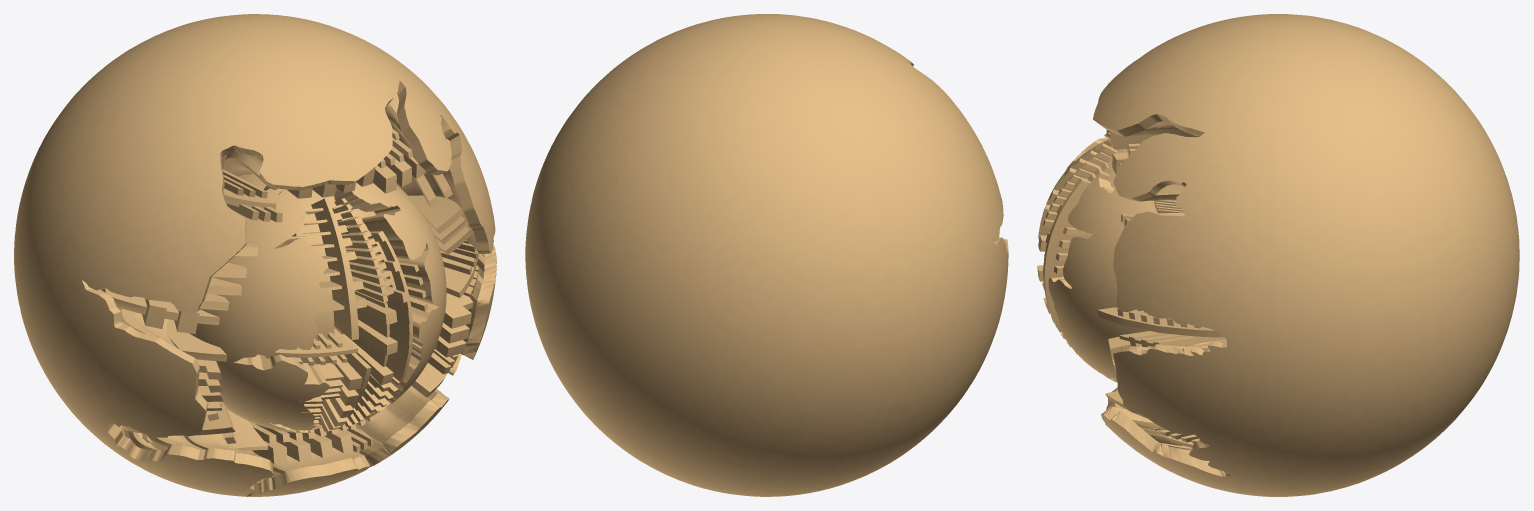
3 views of the same model, side by side, from view 1: azimuth 30°, elevation 25°; view 2: azimuth 150°, elevation 25°; view 3: azimuth 270°, elevation 25° (orthographic).
Visible parts, largest first — view 1: Object_6, Object_8, Object_2, Object_3, Object_4, Object_7, Object_5; view 2: Object_6; view 3: Object_6, Object_8, Object_2, Object_3, Object_4.
Part boxes in pixels (x1,y1,x2,y2): Object_6: [14, 14, 496, 496]; Object_8: [174, 174, 447, 438]; Object_2: [101, 128, 475, 450]; Object_3: [222, 138, 478, 431]; Object_4: [118, 94, 484, 463]; Object_7: [99, 289, 439, 483]; Object_5: [119, 151, 475, 482]; Object_6: [525, 14, 1008, 496]; Object_6: [1093, 14, 1519, 496]; Object_8: [1048, 132, 1175, 417]; Object_2: [1037, 137, 1189, 346]; Object_3: [1042, 131, 1224, 447]; Object_4: [1126, 121, 1226, 443].
Size of the model in its own units: 120 by 120 by 120.
